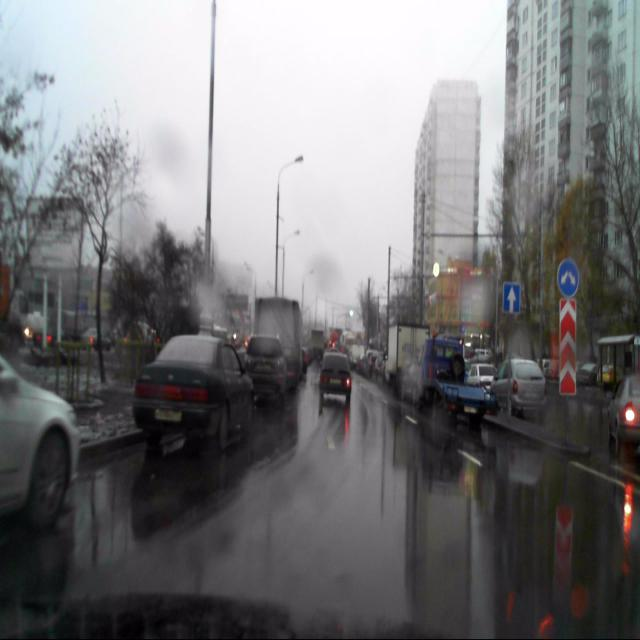road sign: (503, 284, 520, 312)
